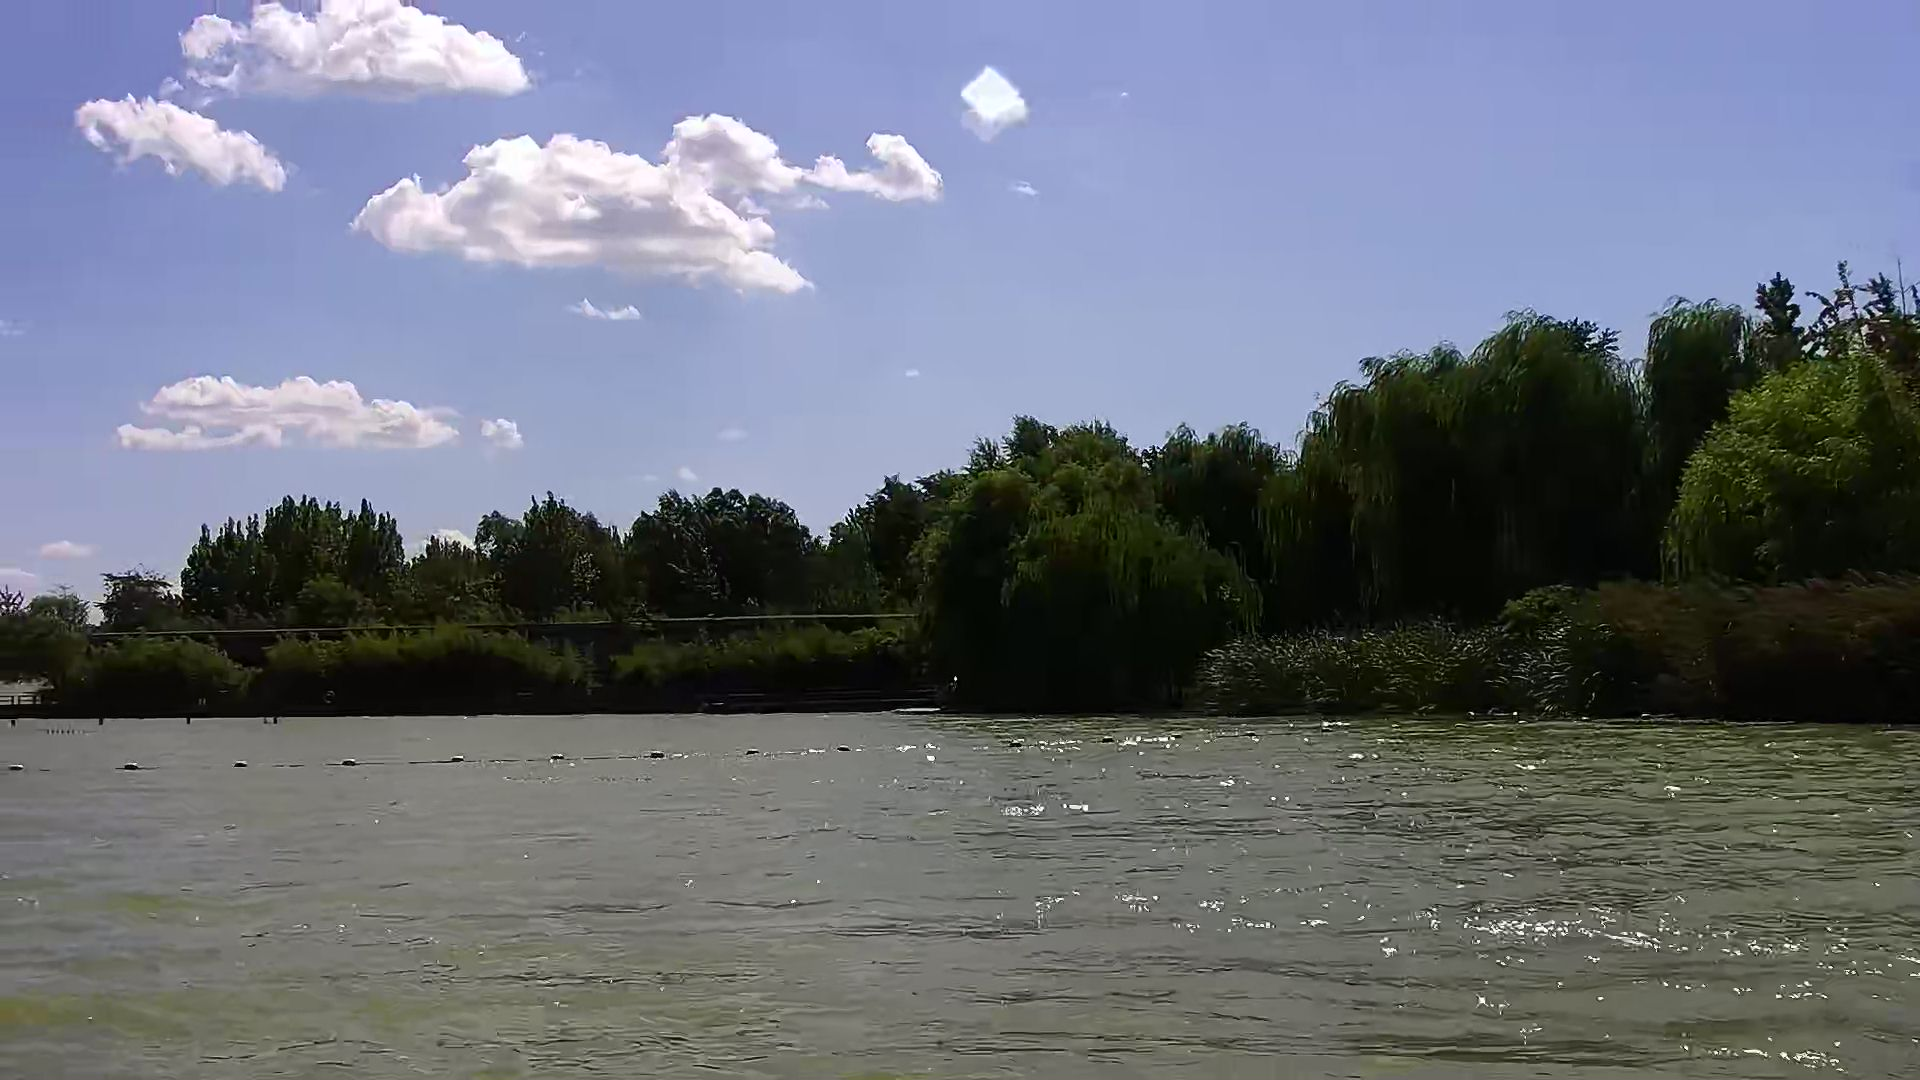ball: (545, 745, 572, 770), (227, 752, 255, 775), (638, 744, 669, 765), (338, 748, 363, 773), (113, 756, 140, 773), (7, 756, 26, 777), (448, 748, 465, 765)
